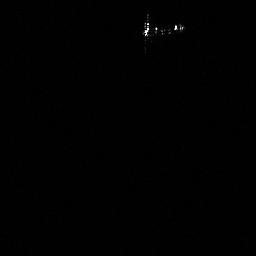ship: (144, 22, 183, 36)
